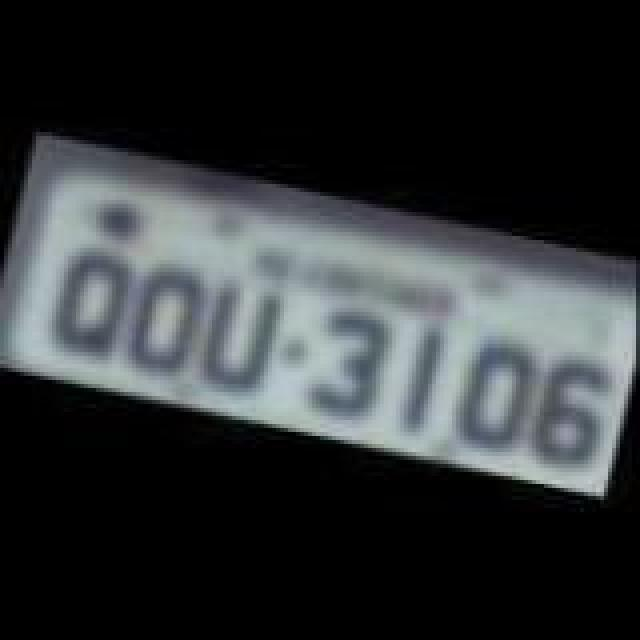1: (392, 320, 456, 436)
3: (302, 304, 398, 424)
6: (522, 352, 614, 476)
O: (118, 258, 214, 382), (444, 336, 540, 460)
Q: (46, 238, 142, 358)
U: (196, 274, 288, 398)
